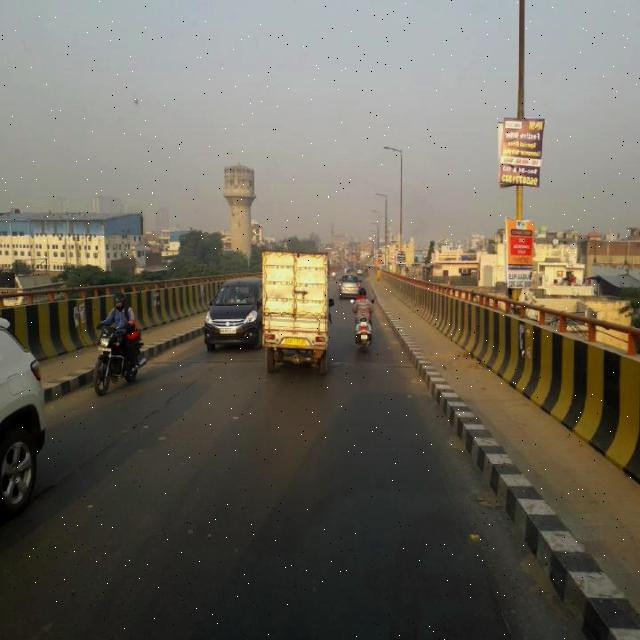D00: (70, 358, 206, 475)
